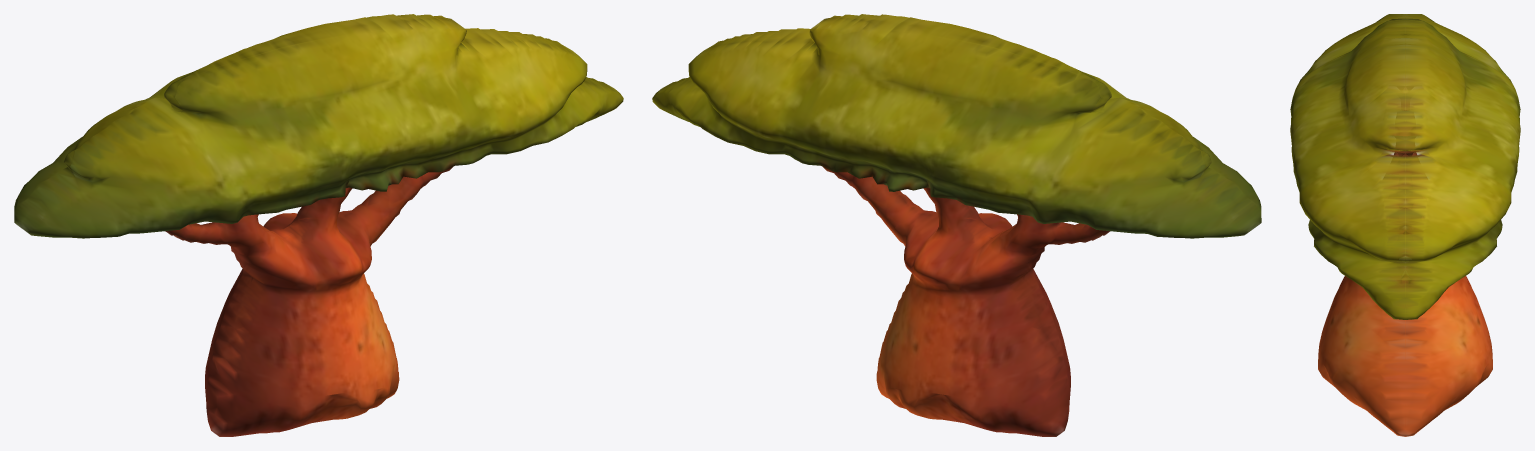
Rendered from 03_baobab_trees_r02_c00.glb.
The picture shows the model from 3 angles, left to right: view 1: azimuth 30°, elevation 25°; view 2: azimuth 150°, elevation 25°; view 3: azimuth 270°, elevation 25°; orthographic projection. The views are drawn at different scales.
Visible parts, largest first — view 1: 03_baobab_trees_r02_c00; view 2: 03_baobab_trees_r02_c00; view 3: 03_baobab_trees_r02_c00.
Part boxes in pixels (x1=…): 03_baobab_trees_r02_c00: x1=14, y1=14, x2=623, y2=436; 03_baobab_trees_r02_c00: x1=652, y1=14, x2=1261, y2=436; 03_baobab_trees_r02_c00: x1=1290, y1=14, x2=1520, y2=436.
Bounding box in the file's own units: 3.01 × 1.79 × 1.09.
Materials: 1 (1 with a texture image).
